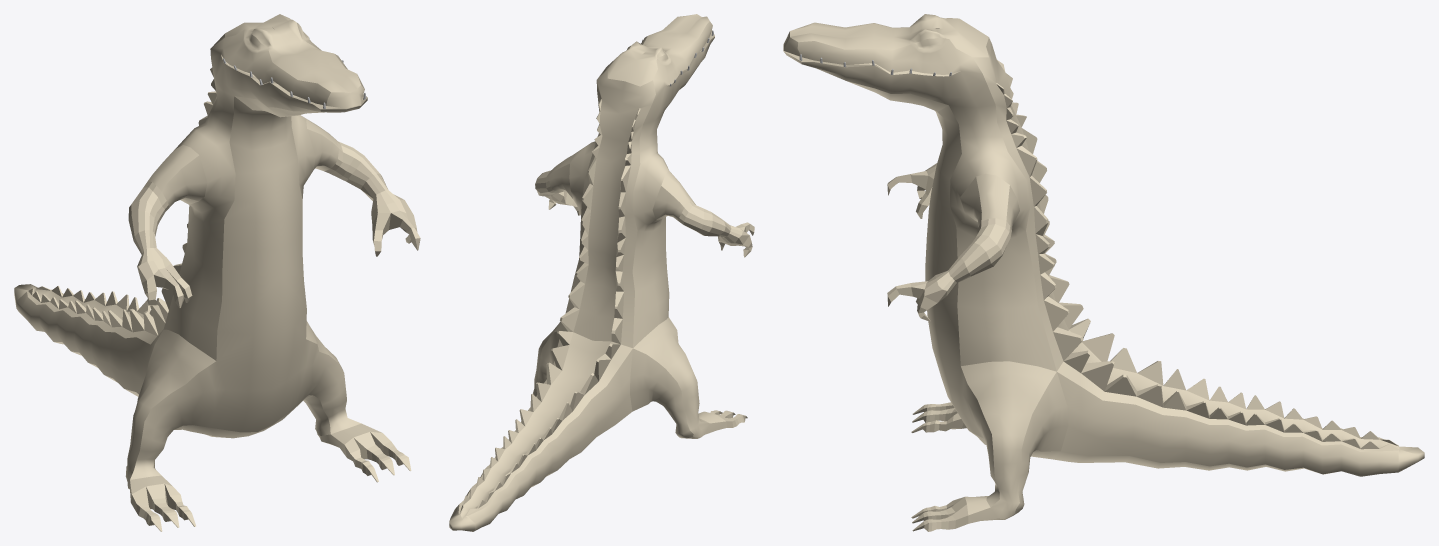
The model's file is gator_wip.glb.
3 views of the same model, side by side, from view 1: azimuth 30°, elevation 25°; view 2: azimuth 150°, elevation 25°; view 3: azimuth 270°, elevation 25° (orthographic). The views are drawn at different scales.
Visible parts, largest first — view 1: gator; view 2: gator; view 3: gator.
Boxes of the visible parts, left/top/right/bottom form: gator: left=14, top=14, right=420, bottom=531; gator: left=449, top=14, right=754, bottom=531; gator: left=783, top=14, right=1424, bottom=531.
Bounding box in the file's own units: 1.16 × 1.95 × 2.49.
